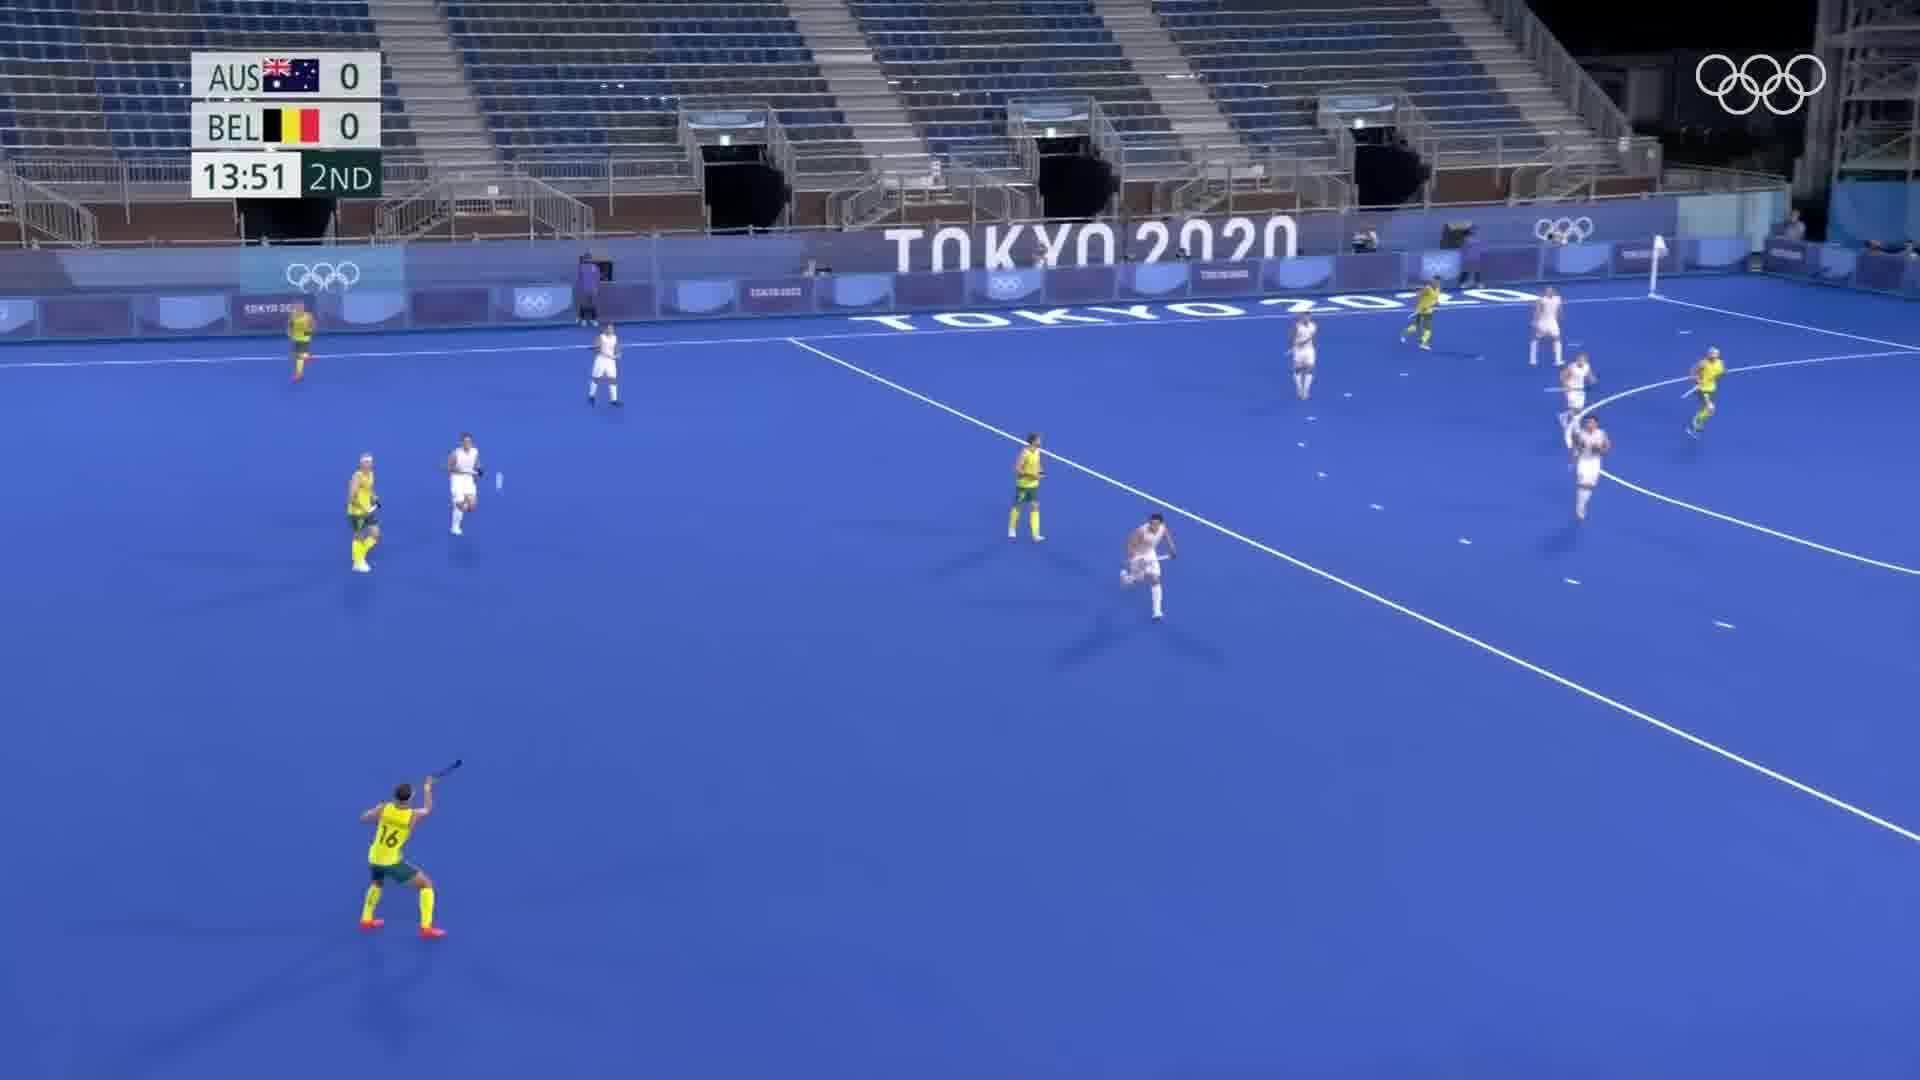ball: (491, 469, 513, 493)
